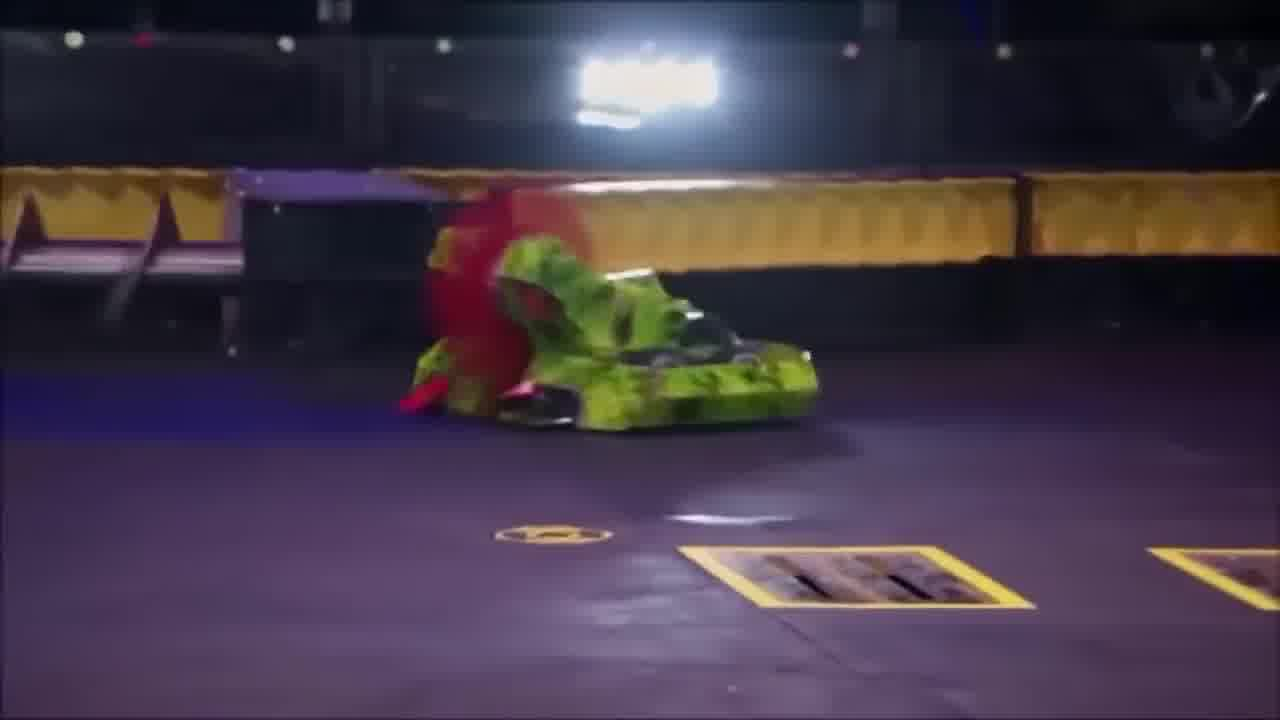combatbot: (390, 225, 832, 440)
